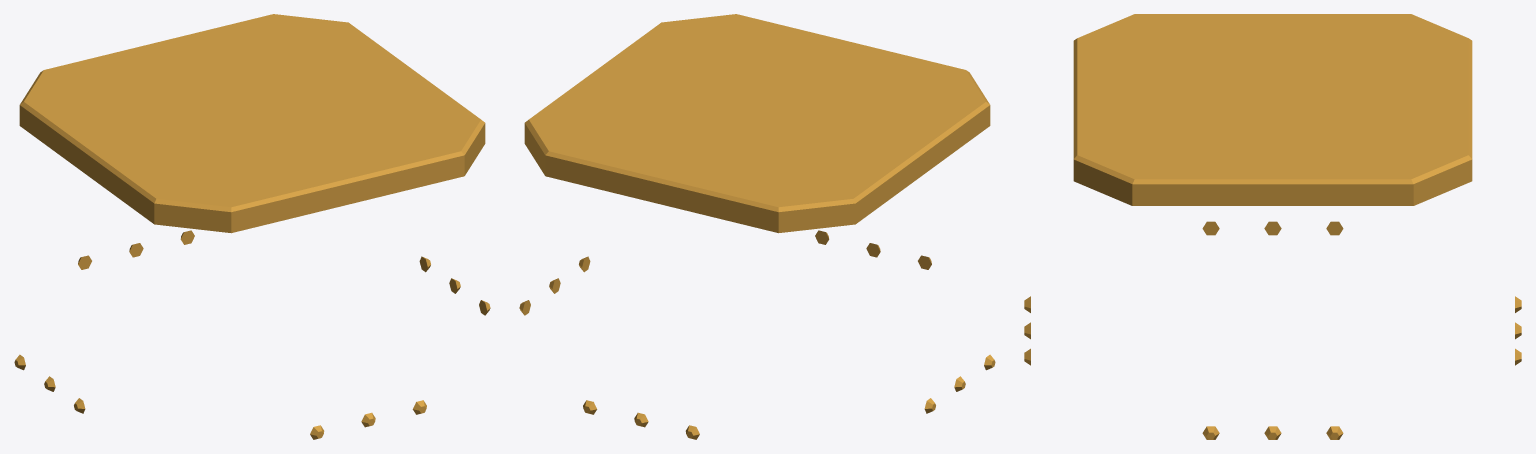
Rendered from MenderKit3.obj.
The picture shows the model from 3 angles, left to right: view 1: azimuth 30°, elevation 25°; view 2: azimuth 150°, elevation 25°; view 3: azimuth 270°, elevation 25°; orthographic projection. The views are drawn at different scales.
Parts seen in each view (by area): view 1: MenderKit3; view 2: MenderKit3; view 3: MenderKit3.
Part boxes in pixels (bbox=[...]): MenderKit3: bbox=[14, 14, 490, 439]; MenderKit3: bbox=[519, 14, 995, 439]; MenderKit3: bbox=[1024, 14, 1521, 439].
Bounding box in the file's own units: 0.803 × 0.4296 × 0.803.
